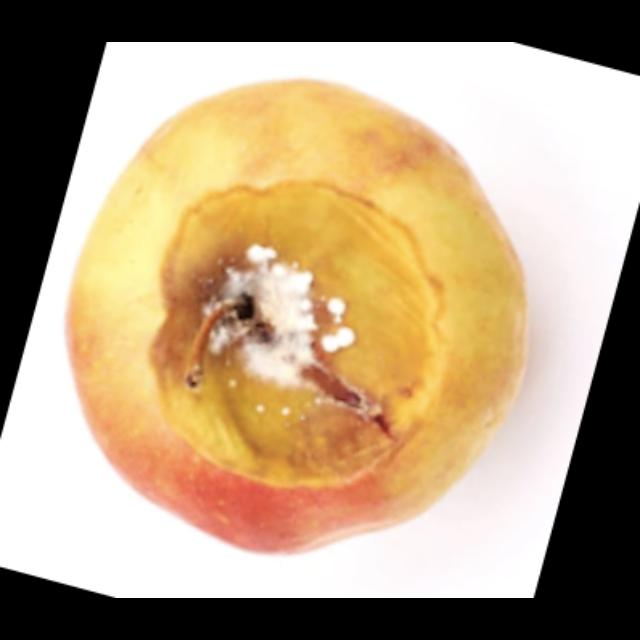Apel Tidak Segar: (68, 89, 529, 573)
